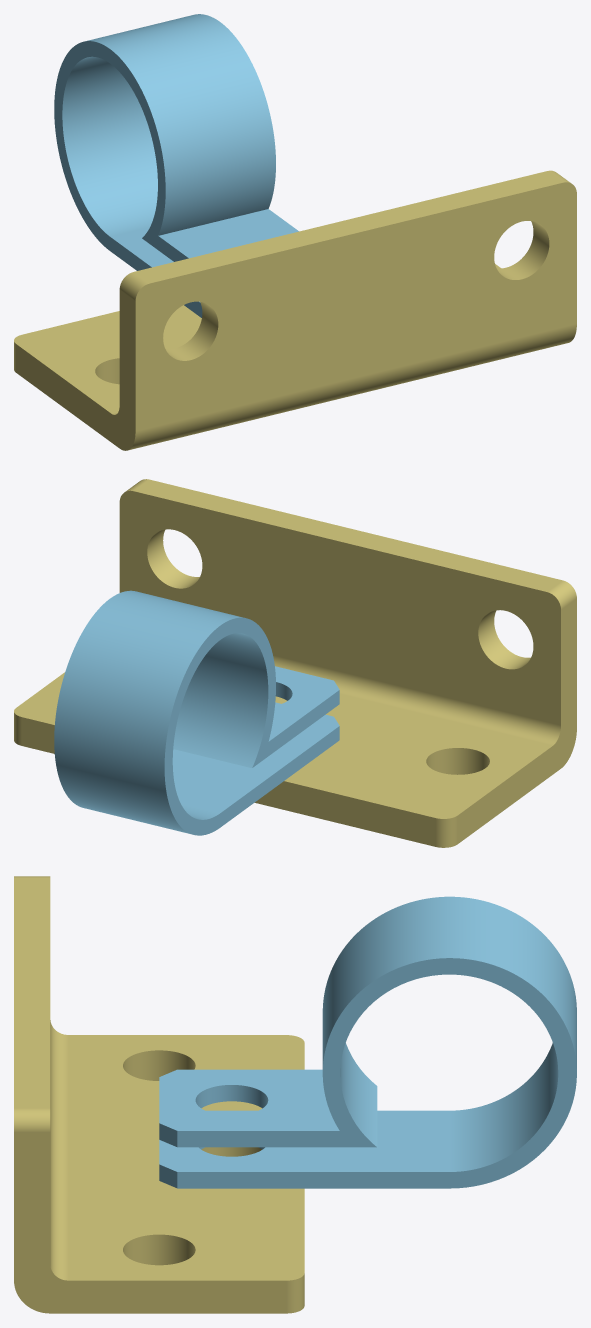
File: propellant-line-brackets.glb
3 views of the same model, one above another, from view 1: azimuth 30°, elevation 25°; view 2: azimuth 150°, elevation 25°; view 3: azimuth 270°, elevation 25° (orthographic). The views are drawn at different scales.
Bounding box in the file's own units: 0.1016 × 0.0508 × 0.0984.
